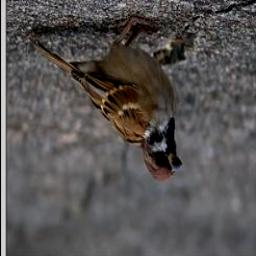Sparrow: (28, 12, 187, 187)
